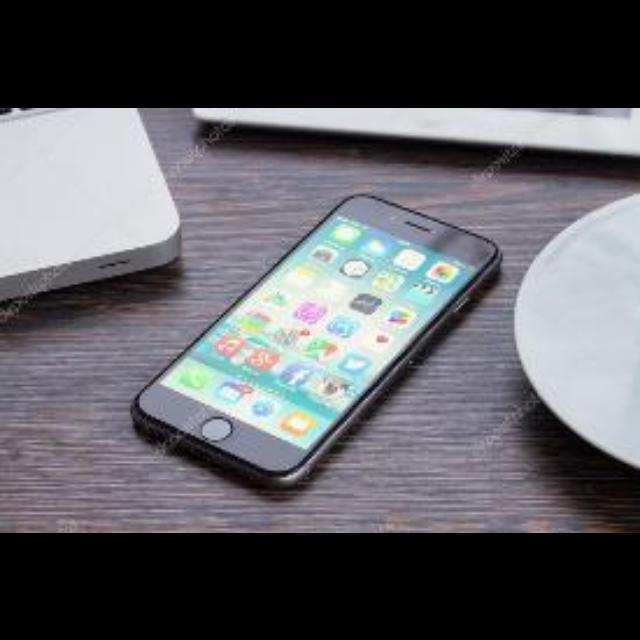PhoneUse: (116, 190, 512, 470)
